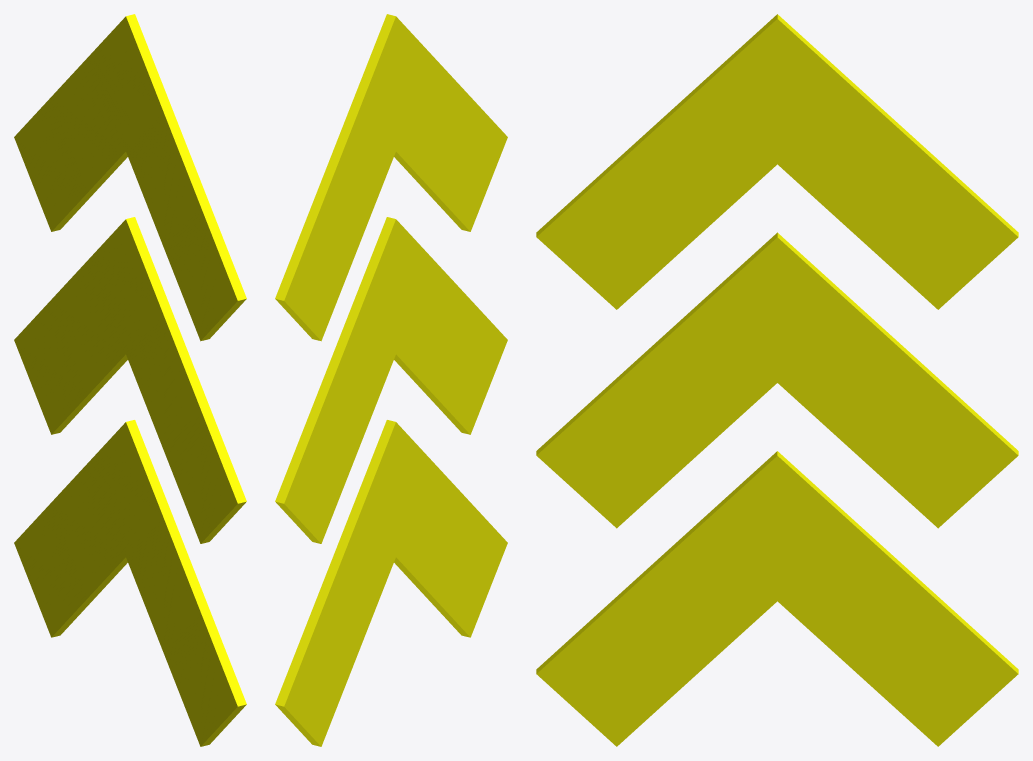
Rendered from Tutorial Arrow.fbx.
3 renders of one model, left to right at view 1: azimuth 30°, elevation 25°; view 2: azimuth 150°, elevation 25°; view 3: azimuth 270°, elevation 25°, orthographic. The views are drawn at different scales.
Parts seen in each view (by area): view 1: Cube; view 2: Cube; view 3: Cube.
Part boxes in pixels (x1,y1,x2,y2): Cube: (14,14,246,746); Cube: (275,14,507,746); Cube: (536,14,1018,746).
Bounding box in the file's own units: 600 × 42426 × 25456.
